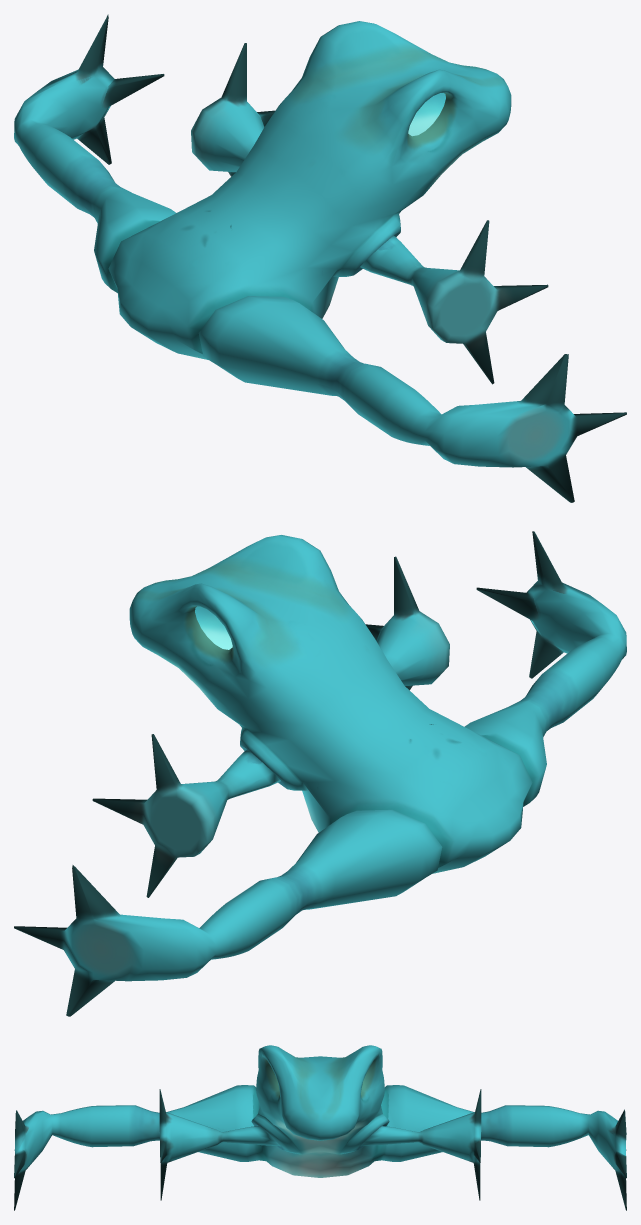
The model's file is FrogNORMAL.fbx.
3 views of the same model, one above another, from view 1: azimuth 30°, elevation 25°; view 2: azimuth 150°, elevation 25°; view 3: azimuth 270°, elevation 25° (orthographic). The views are drawn at different scales.
Parts seen in each view (by area): view 1: frogbodybasic.004; view 2: frogbodybasic.004; view 3: frogbodybasic.004.
Boxes of the visible parts, <box> form: frogbodybasic.004: <box>14,14,626,502</box>; frogbodybasic.004: <box>14,531,626,1016</box>; frogbodybasic.004: <box>14,1045,626,1210</box>.
Size of the model in its own units: 40.08 by 27.68 by 85.4.
